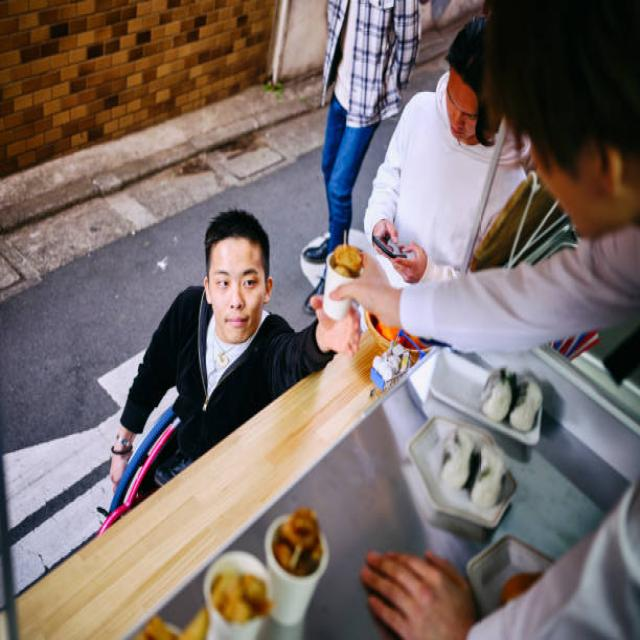Emperan: (100, 21, 640, 640)
